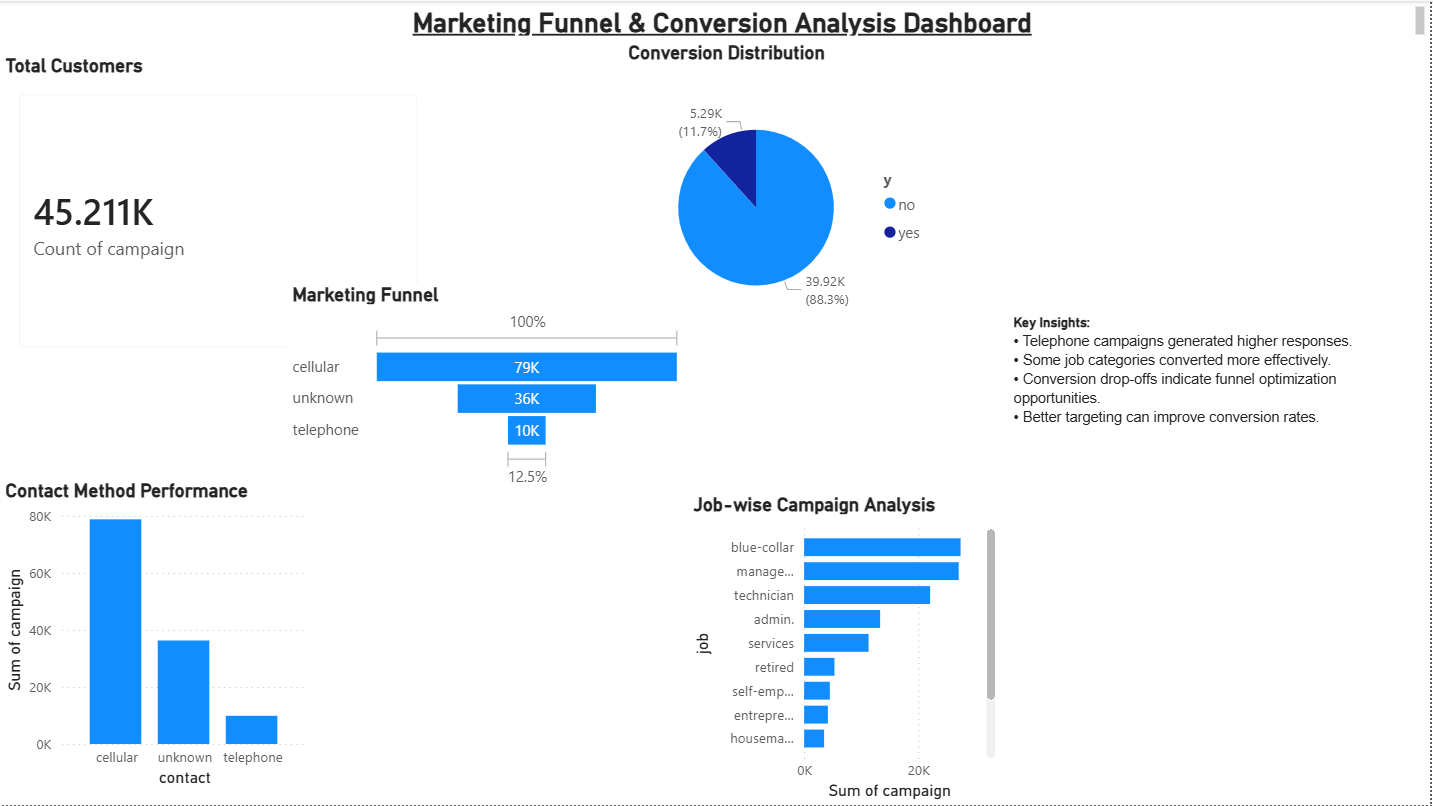

Layout of this report page (visuals, bound fields, positions):
{"tool":"powerbi","page":{"name":"Page 1","canvas":[1280,720],"ordinal":0},"visuals":[{"type":"cardVisual","title":"Total Customers","fields":{"Data":["CountNonNull(bank-full.campaign)"]},"box":[26.9,79.7,347.5,214.9],"z":0},{"type":"pieChart","title":"Conversion Distribution","fields":{"Category":["bank-full.y"],"Y":["CountNonNull(bank-full.campaign)"]},"box":[406.6,79.7,387.8,214.9],"z":1},{"type":"funnel","title":"Marketing Funnel","fields":{"Category":["bank-full.contact"],"Y":["Sum(bank-full.campaign)"]},"box":[130.7,276.7,550.7,234.6],"z":2},{"type":"clusteredColumnChart","title":"Contact Method Performance","fields":{"Category":["bank-full.contact"],"Y":["Sum(bank-full.campaign)"]},"box":[26.9,511.3,347.5,208.7],"z":3},{"type":"clusteredBarChart","title":"Job-wise Campaign Analysis","fields":{"Category":["bank-full.job"],"Y":["Sum(bank-full.campaign)"]},"box":[406.6,511.3,387.8,208.7],"z":4},{"type":"textbox","box":[0,0,1280,57.4],"z":5},{"type":"textbox","box":[795.2,345.7,484.5,136.1],"z":6}]}

Visuals, with their boxes in screenshot pixels (x1, y1, x2, y2), scaled from the page's 1280x720 canvas onto the 1433x806 screenshot:
"Total Customers" cardVisual: BBox(30, 89, 419, 330)
"Conversion Distribution" pieChart: BBox(455, 89, 889, 330)
"Marketing Funnel" funnel: BBox(146, 310, 763, 572)
"Contact Method Performance" clusteredColumnChart: BBox(30, 572, 419, 805)
"Job-wise Campaign Analysis" clusteredBarChart: BBox(455, 572, 889, 805)
textbox: BBox(0, 0, 1432, 64)
textbox: BBox(890, 387, 1432, 539)
